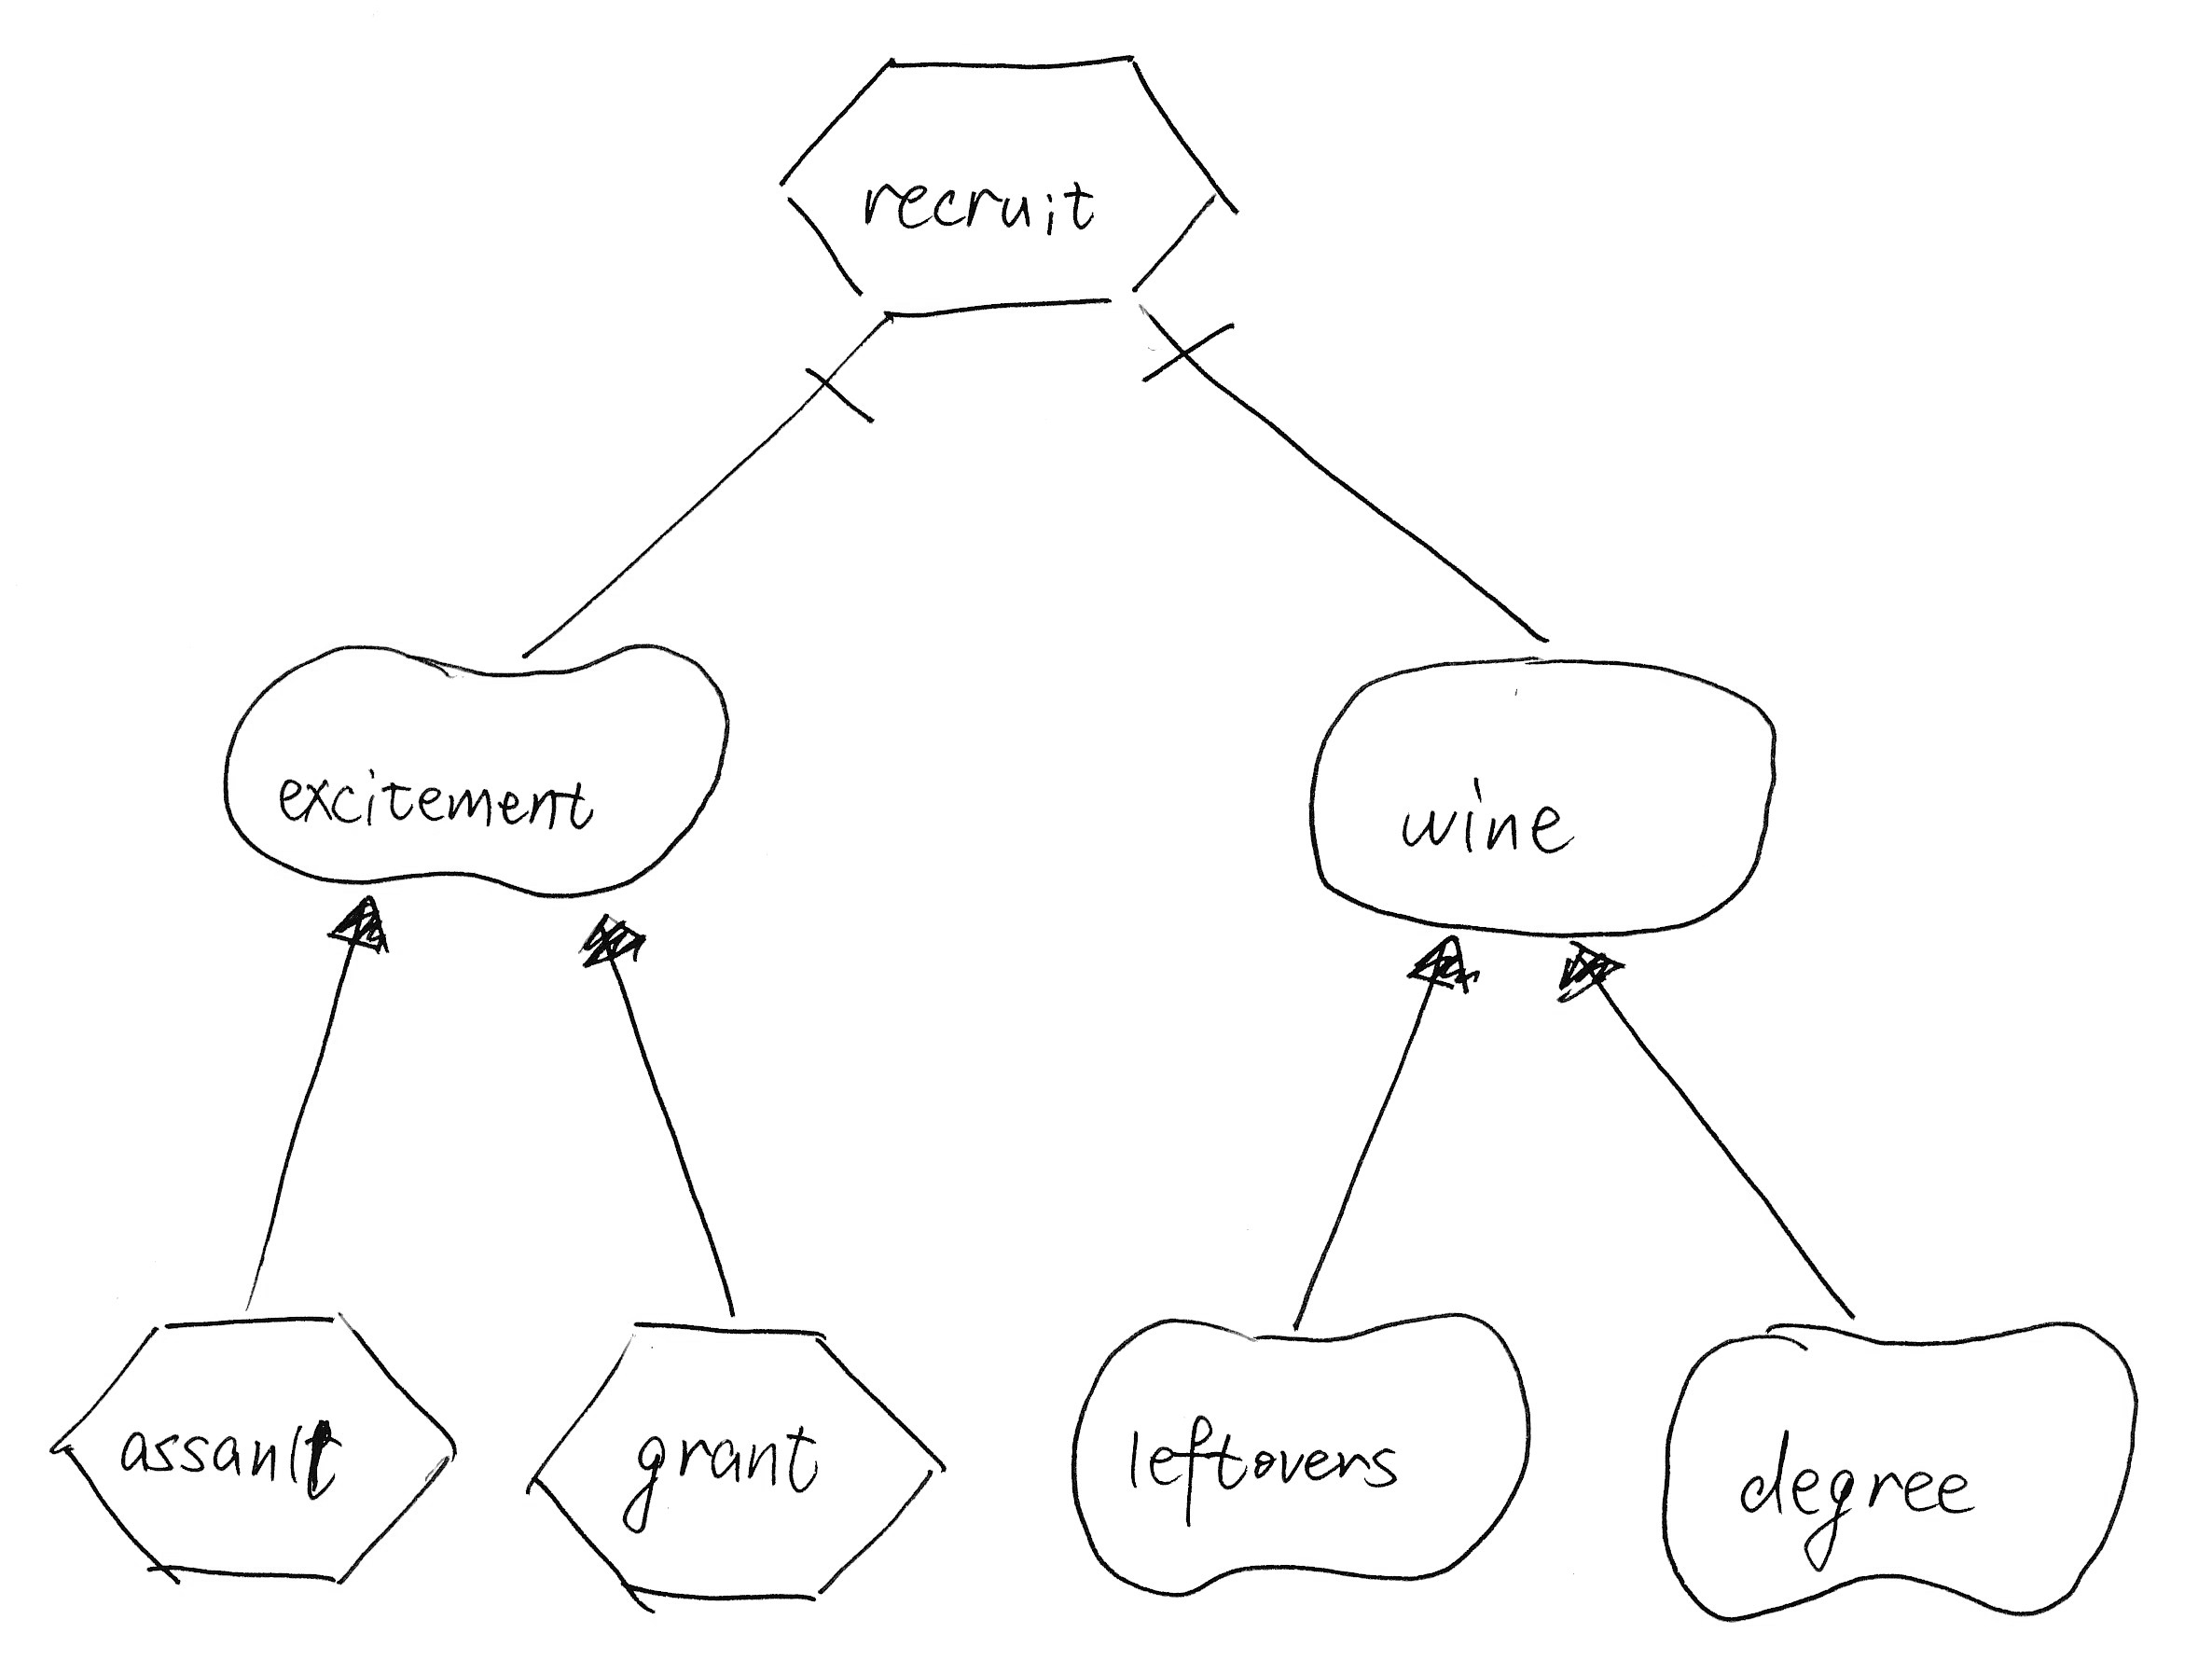and: (776, 326, 881, 445), (1134, 309, 1253, 398)
goal: (1291, 640, 1795, 956)
or: (1544, 933, 1643, 1021), (307, 885, 398, 977), (1389, 926, 1486, 1012), (565, 907, 659, 984)
quality: (1649, 1305, 2156, 1645), (202, 628, 750, 909), (1054, 1300, 1544, 1609)
task: (761, 33, 1268, 335), (518, 1300, 956, 1631), (31, 1298, 476, 1605)
